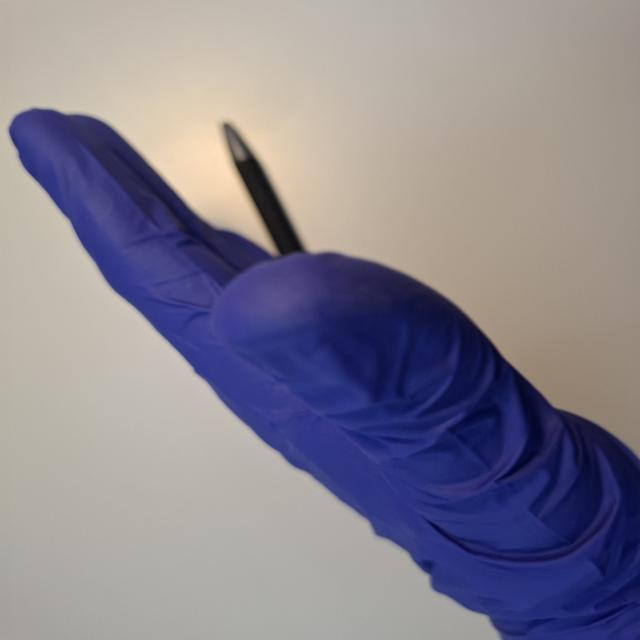glove_on: (3, 102, 640, 635)
